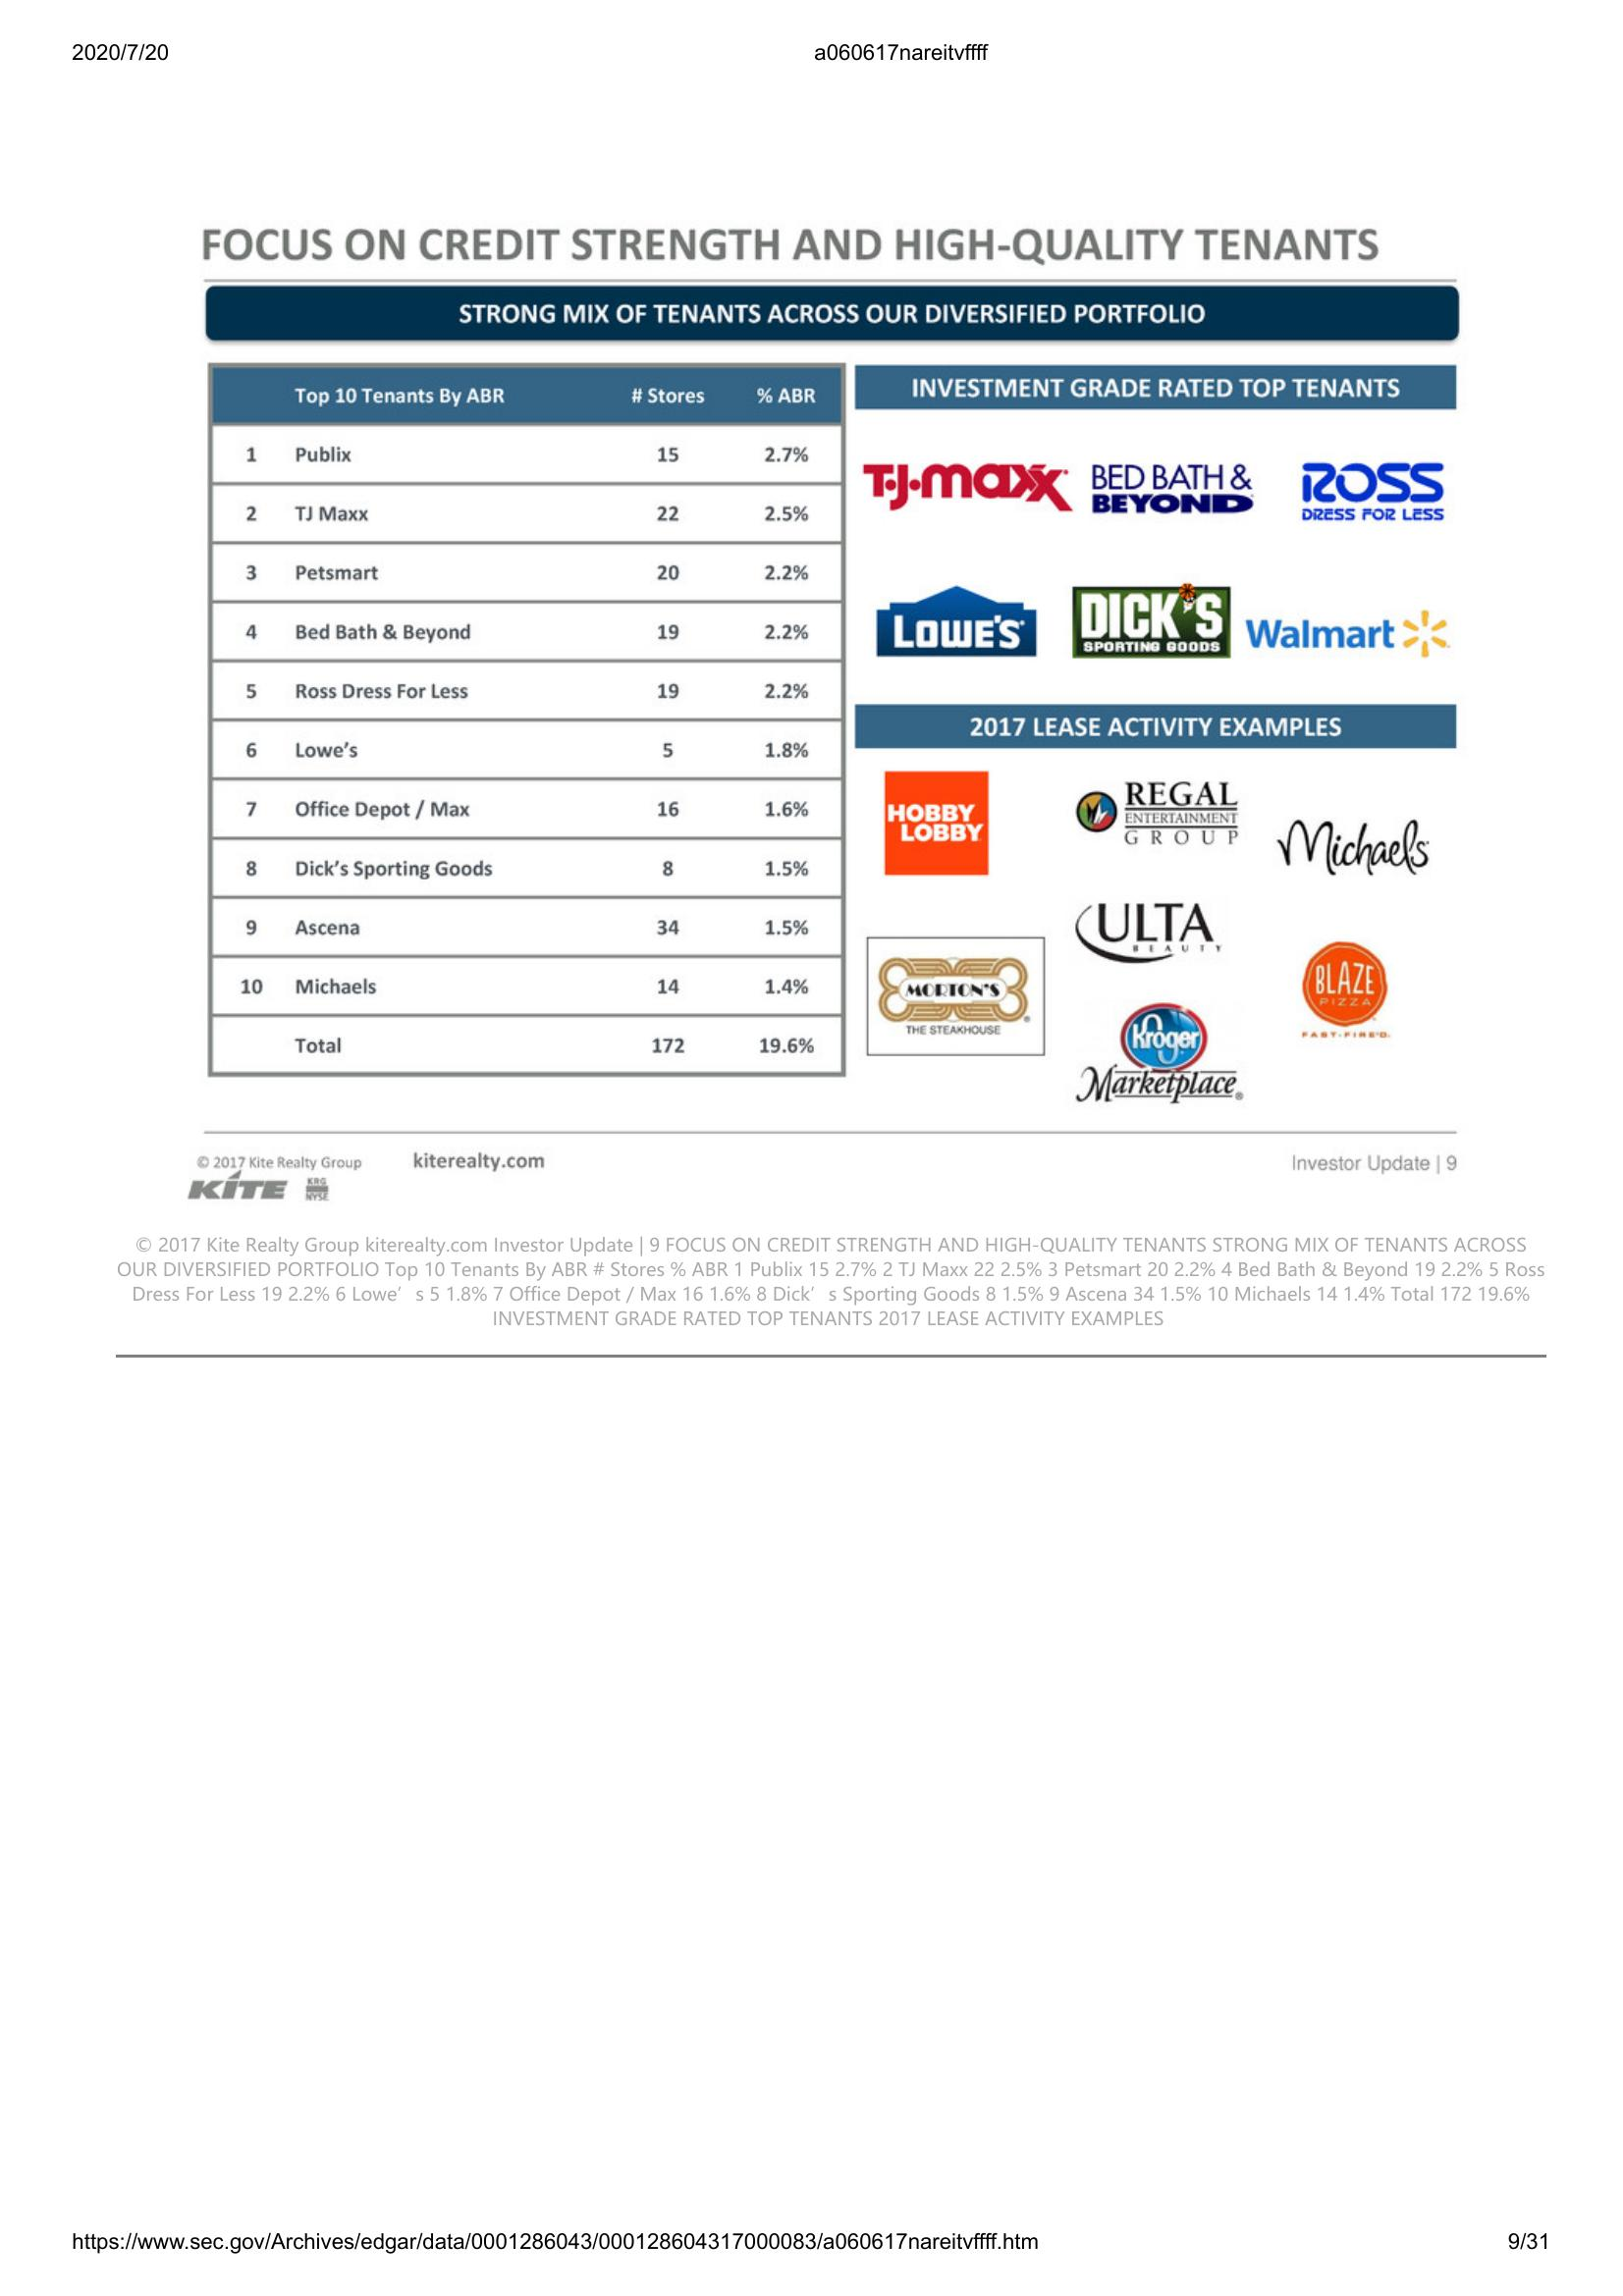table: (198, 356, 854, 1078)
